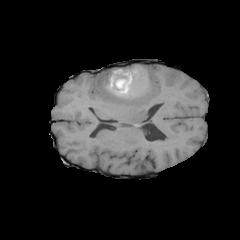glioma: (94, 64, 156, 123)
